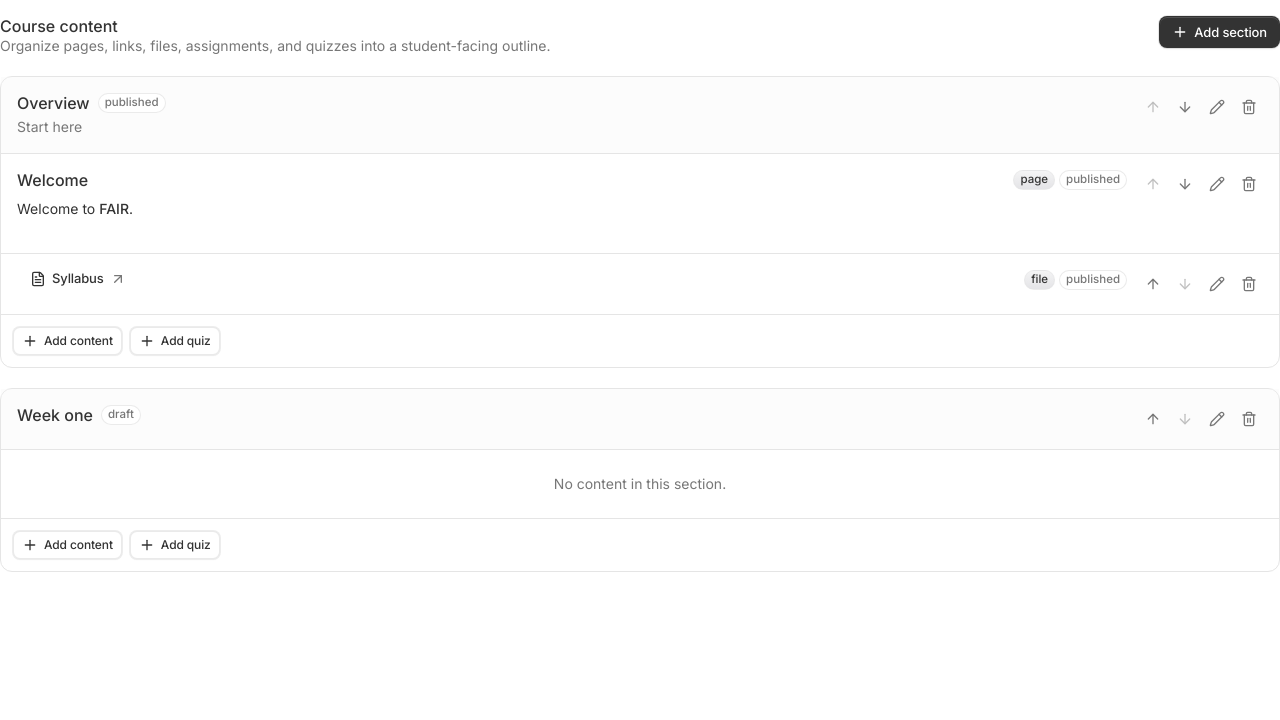
Test: CourseContentTab › opens protected files through the authenticated artifact action
Click the button "Syllabus" at x=78, y=279, box [17, 270, 139, 288]
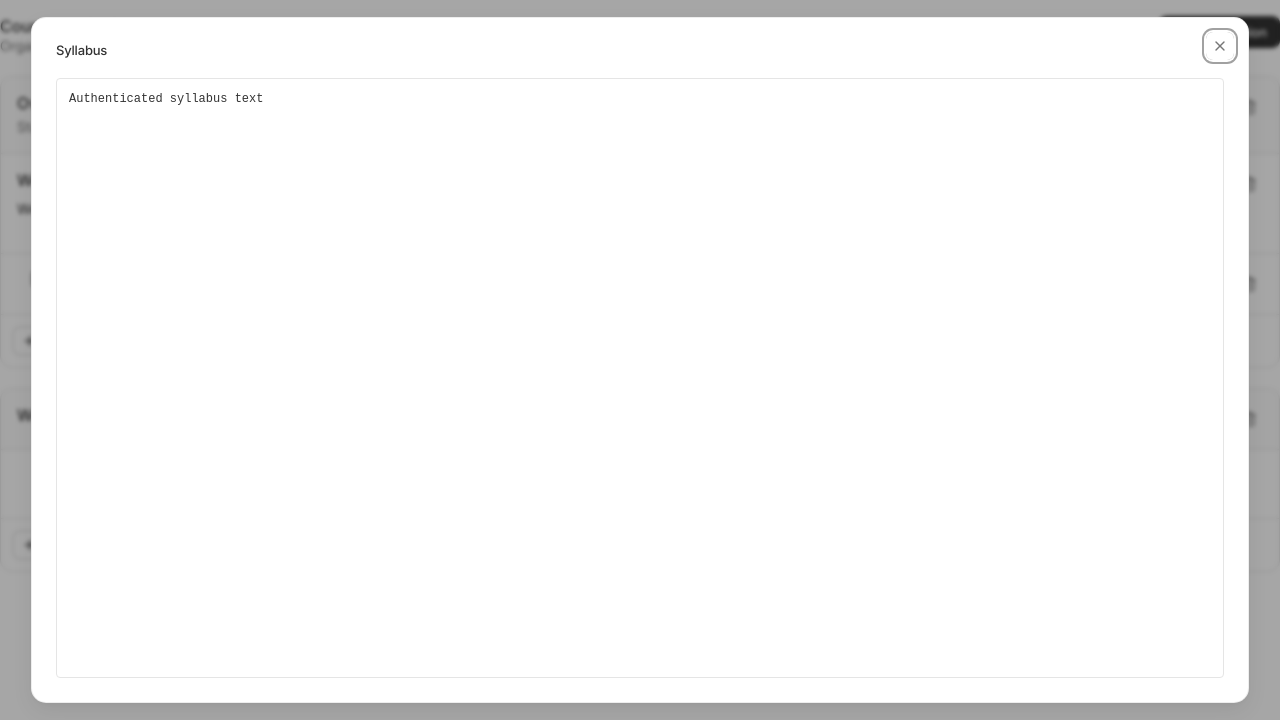
Now the text "Authenticated syllabus text" is shown, box [69, 92, 263, 106]
